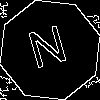N: (25, 25, 72, 78)
